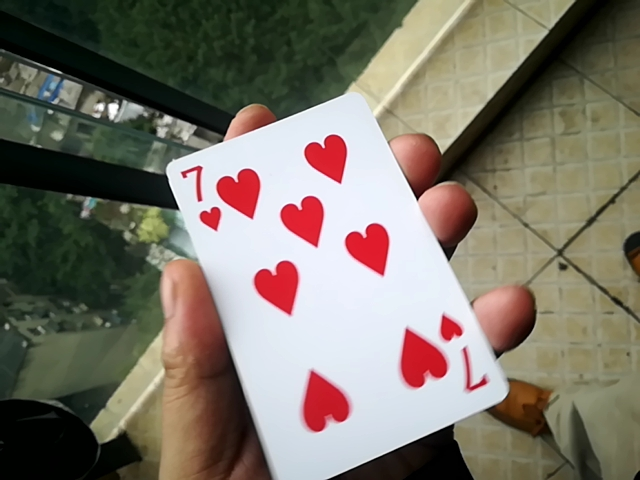hx 7: (150, 90, 511, 480)
